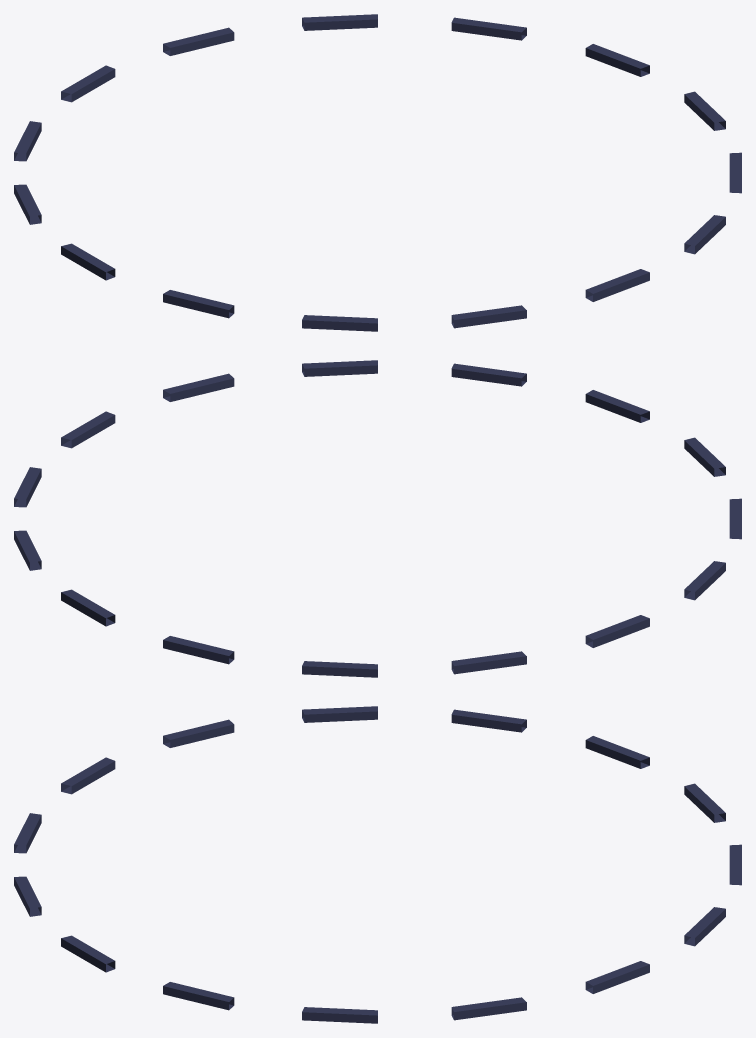
Rendered from cirkel01.fbx.
The picture shows the model from 3 angles, top to bottom: view 1: azimuth 30°, elevation 25°; view 2: azimuth 150°, elevation 25°; view 3: azimuth 270°, elevation 25°; orthographic projection.
Visible parts, largest first — view 1: pCylinder78; view 2: pCylinder78; view 3: pCylinder78.
Part boxes in pixels (x1,y1,x2,y2): pCylinder78: [14, 14, 741, 331]; pCylinder78: [14, 360, 741, 677]; pCylinder78: [14, 706, 741, 1023].
Bounding box in the file's own units: 15.46 × 0.1921 × 15.38.
